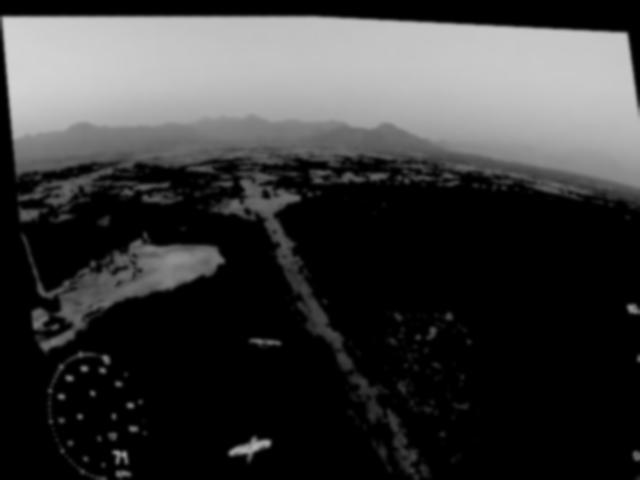hedef: (212, 426, 276, 468), (235, 328, 279, 353)
